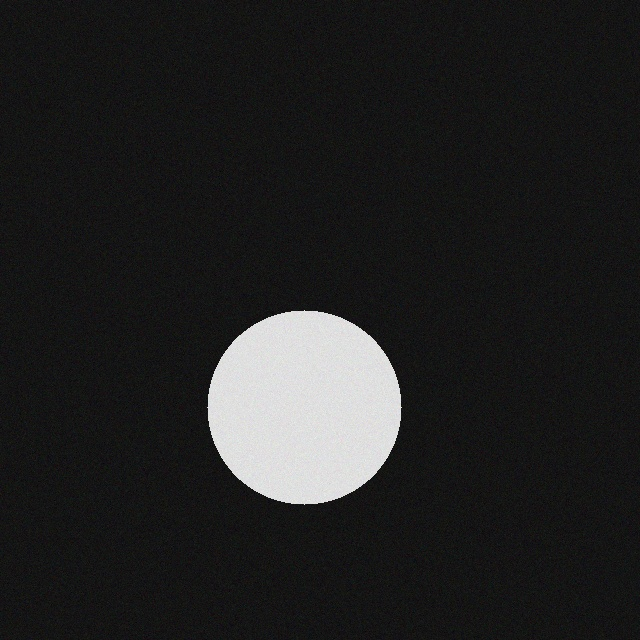circle: (206, 301, 400, 495)
